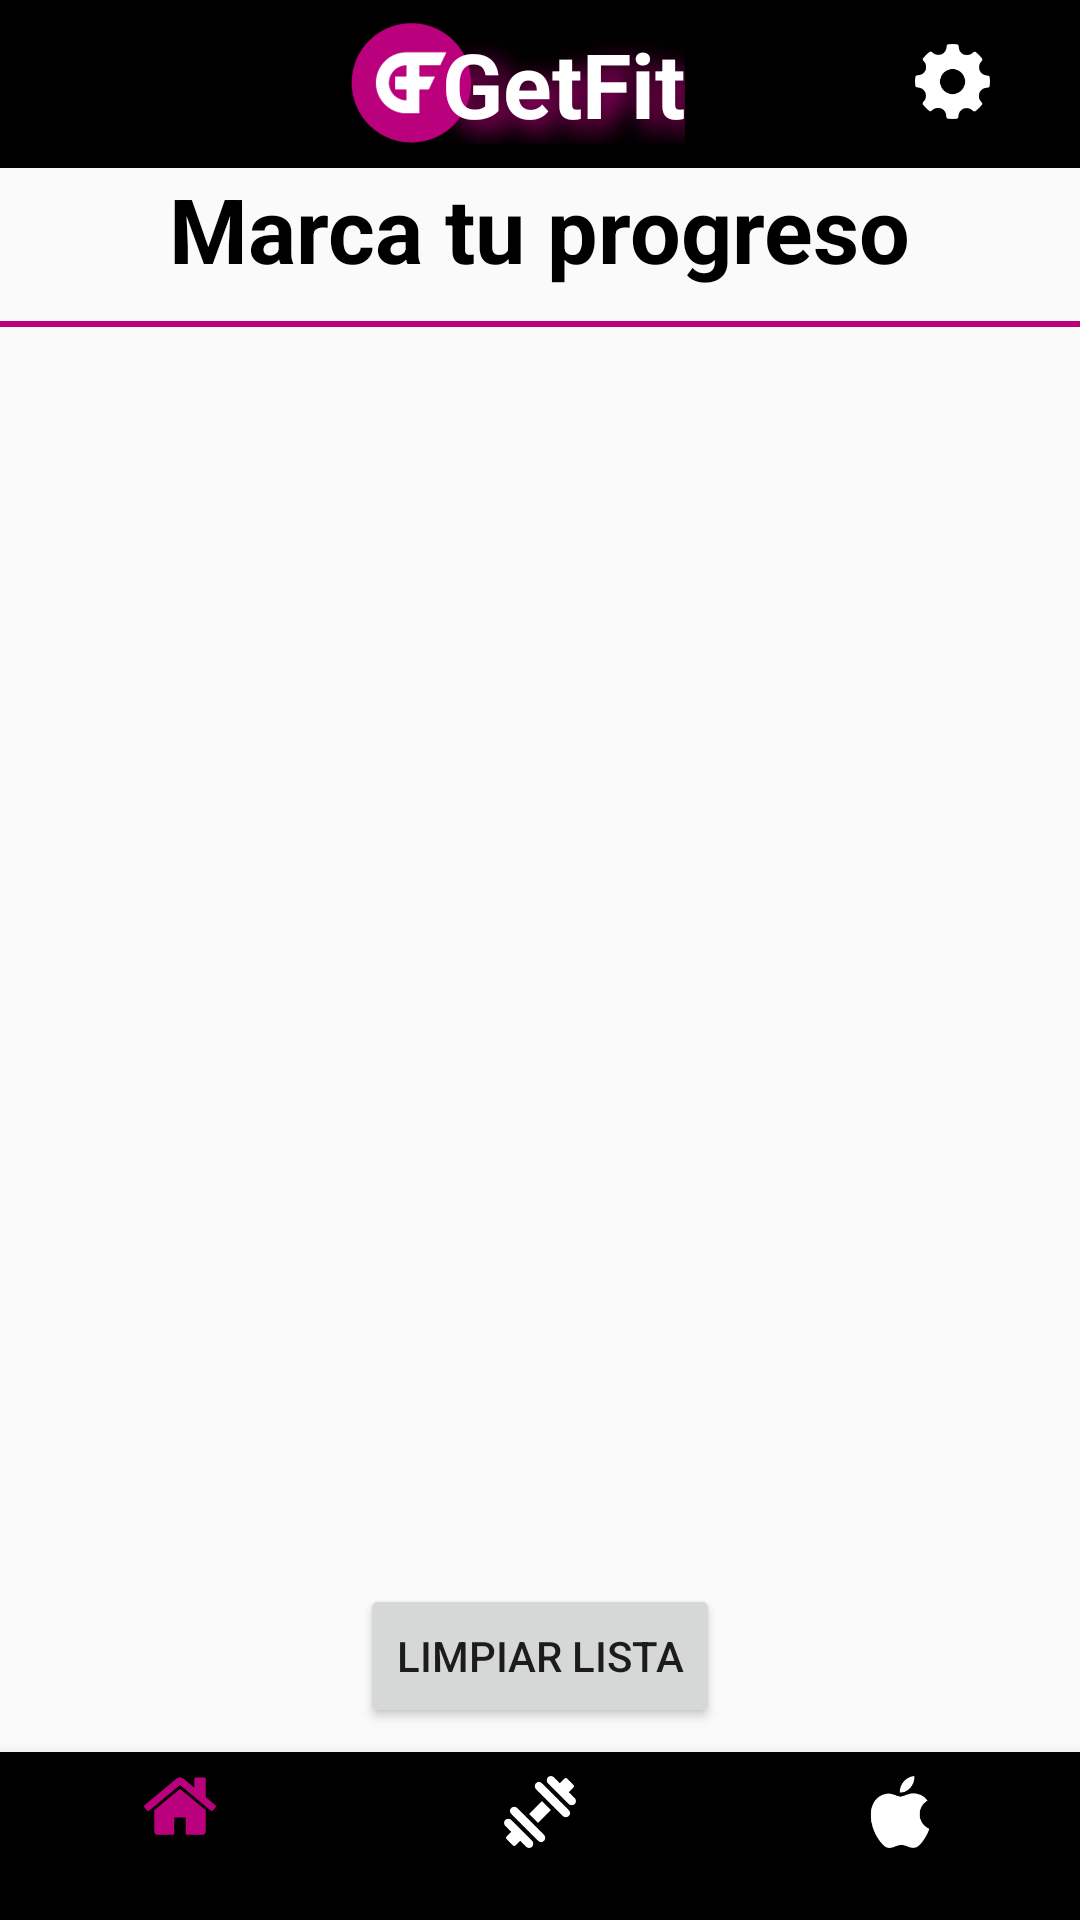

Where to tap for icons on this 1080w x 1920h app screen, as [x,y]:
ajustes: [952,81]
